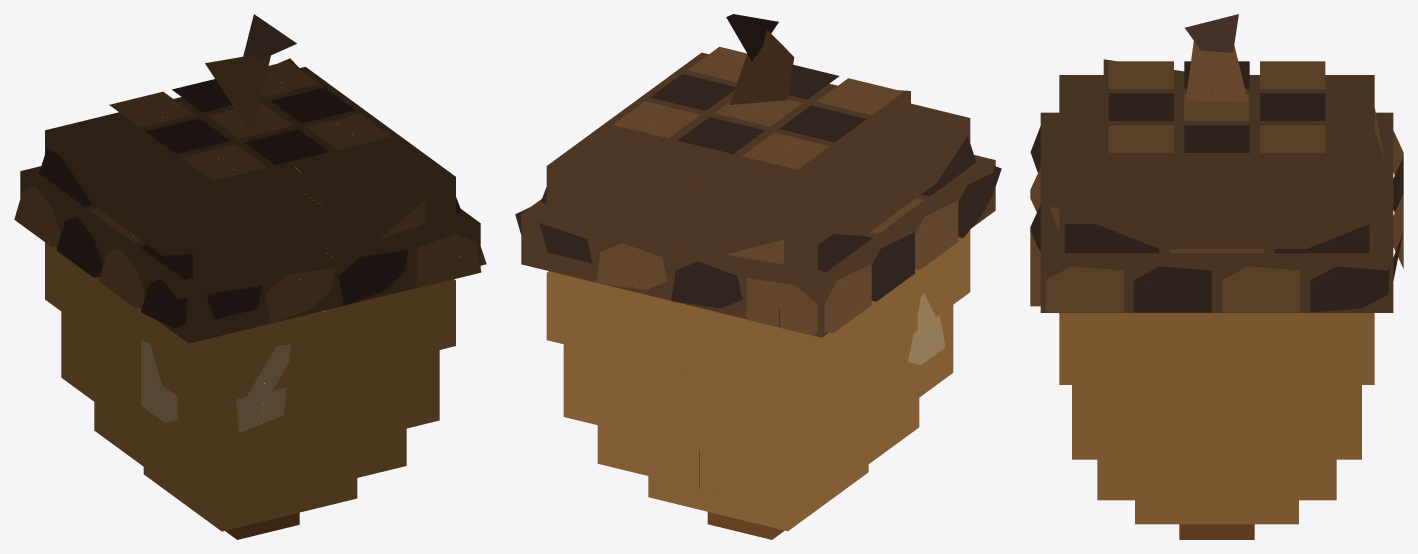
File: acorn-blocky_lod2.glb
The picture shows the model from 3 angles, left to right: view 1: azimuth 30°, elevation 25°; view 2: azimuth 150°, elevation 25°; view 3: azimuth 270°, elevation 25°; orthographic projection. The views are drawn at different scales.
Parts seen in each view (by area): view 1: cap, nut; view 2: cap, nut; view 3: cap, nut.
Boxes of the visible parts, bbox=[...] form: cap: bbox=[14, 14, 486, 343]; nut: bbox=[45, 242, 455, 539]; cap: bbox=[515, 14, 1001, 337]; nut: bbox=[546, 230, 970, 539]; cap: bbox=[1030, 14, 1403, 312]; nut: bbox=[1059, 313, 1374, 539].
Size of the model in its own units: 0.296 by 0.4528 by 0.296.
